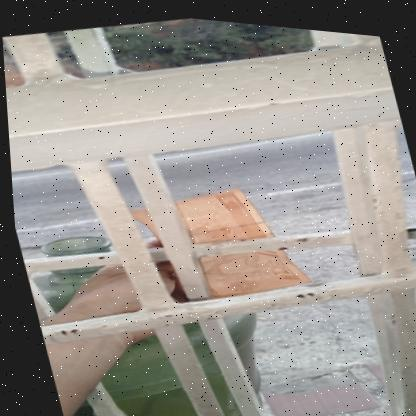twenty-back-vef: (122, 164, 311, 314)
